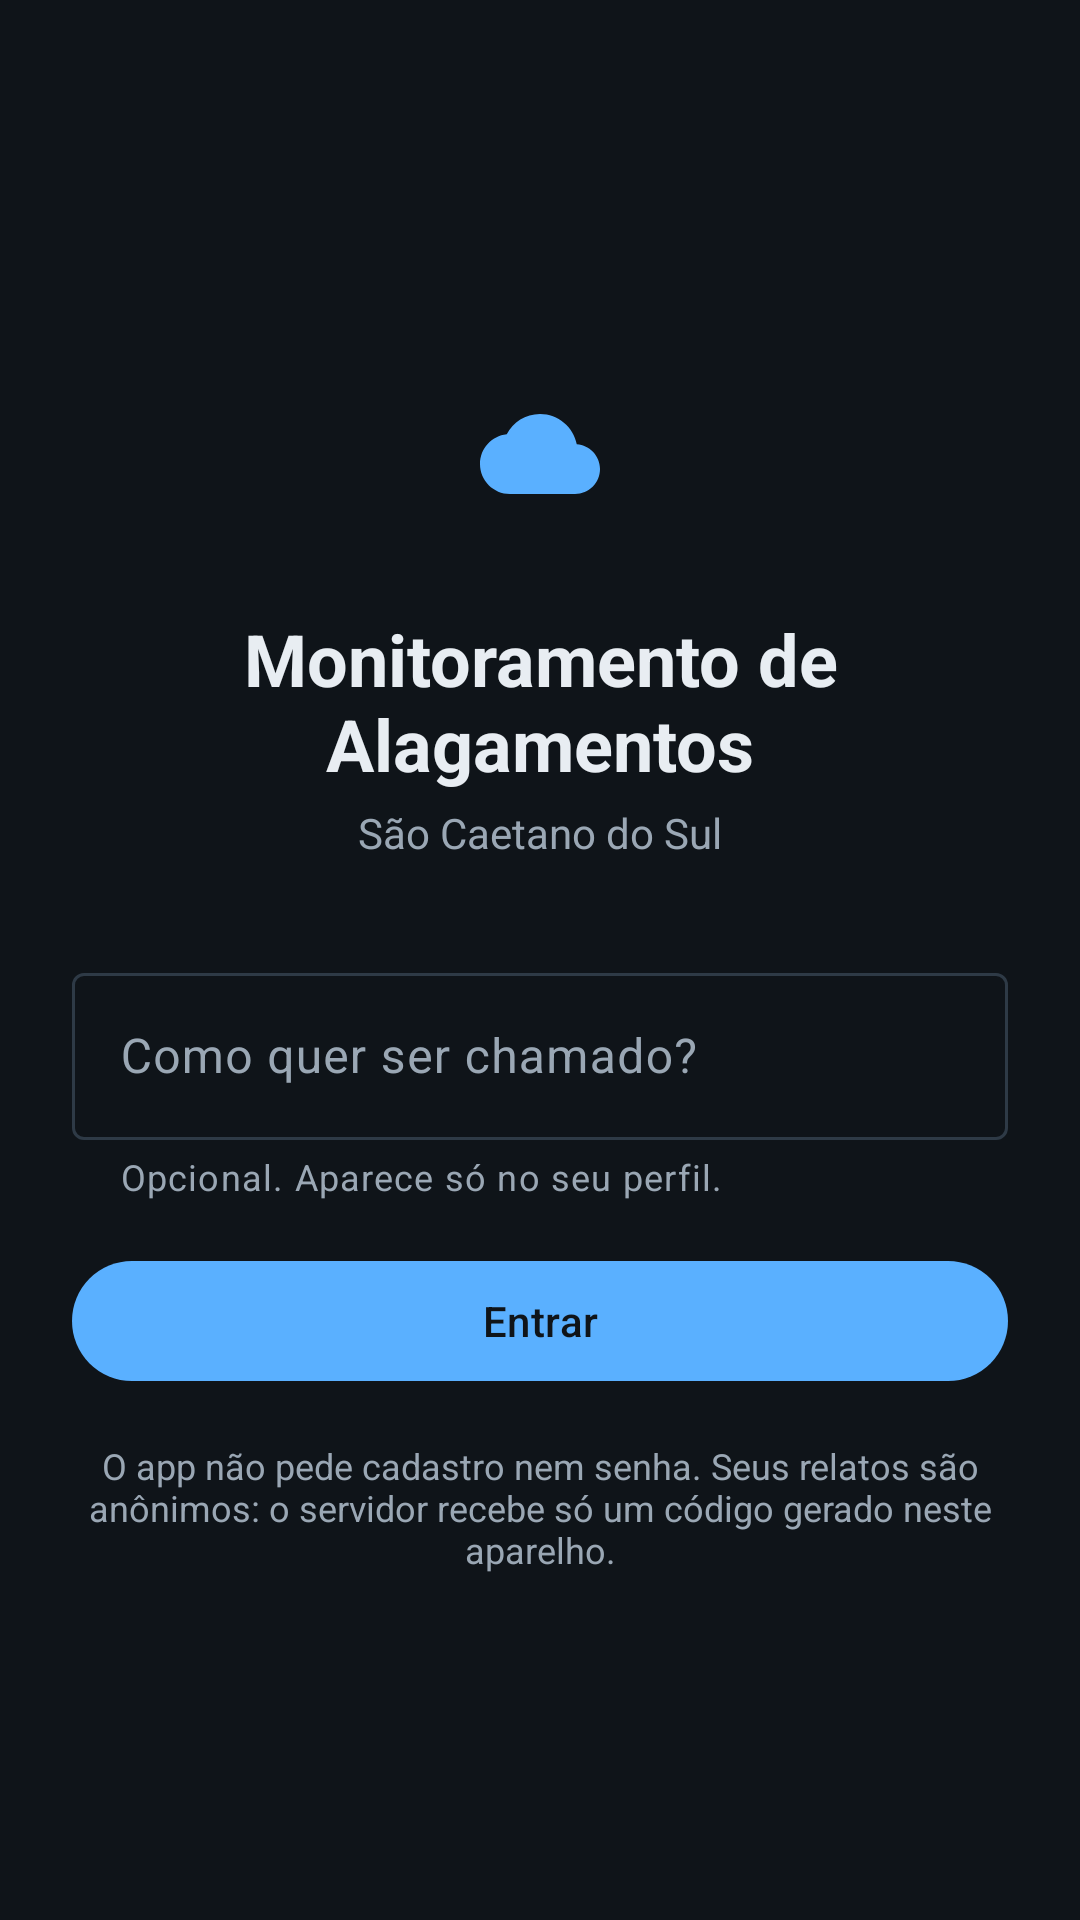

Named icons in this screenshot (1080px x 1920px) and their centers, point (x, y):
previsao: point (540, 454)
